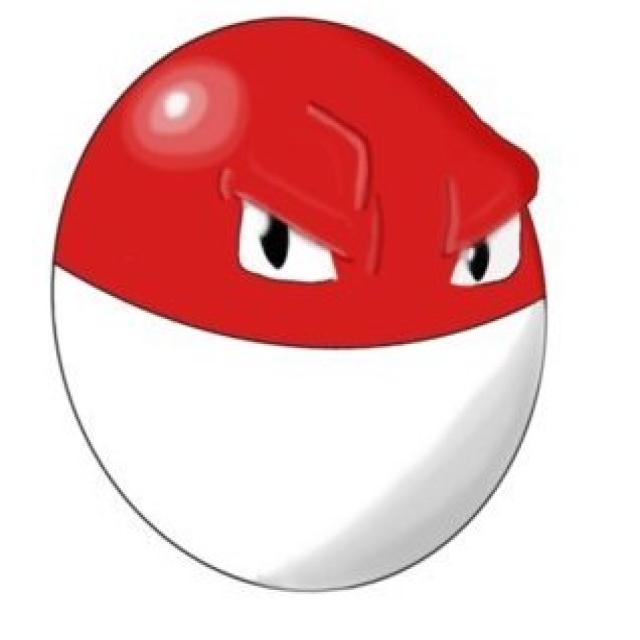Voltorb: (46, 20, 548, 588)
